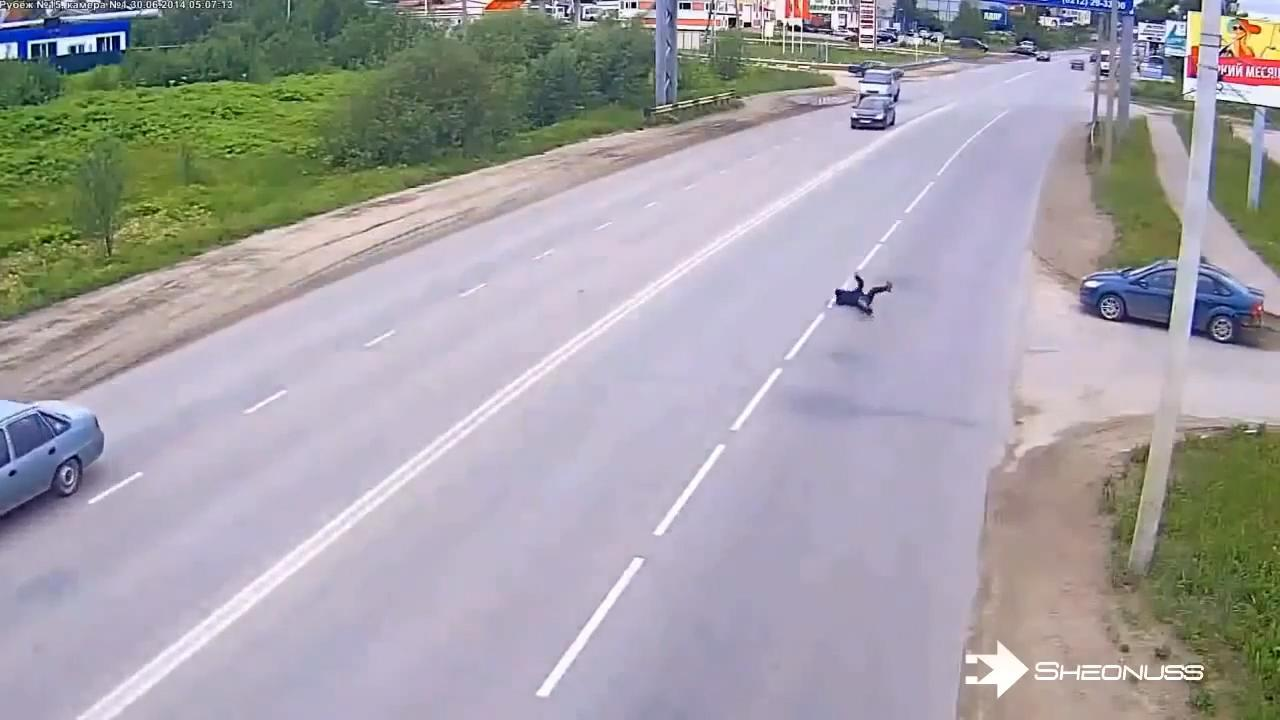accident: (826, 267, 896, 319)
